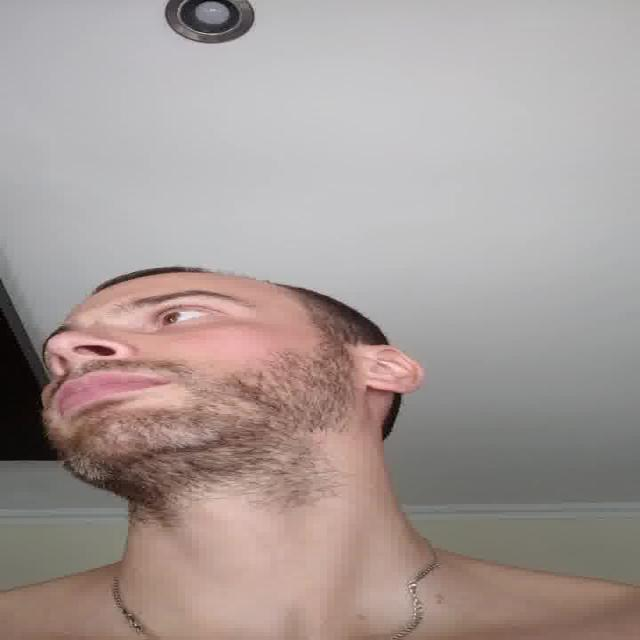earlobe: (357, 342, 425, 398)
